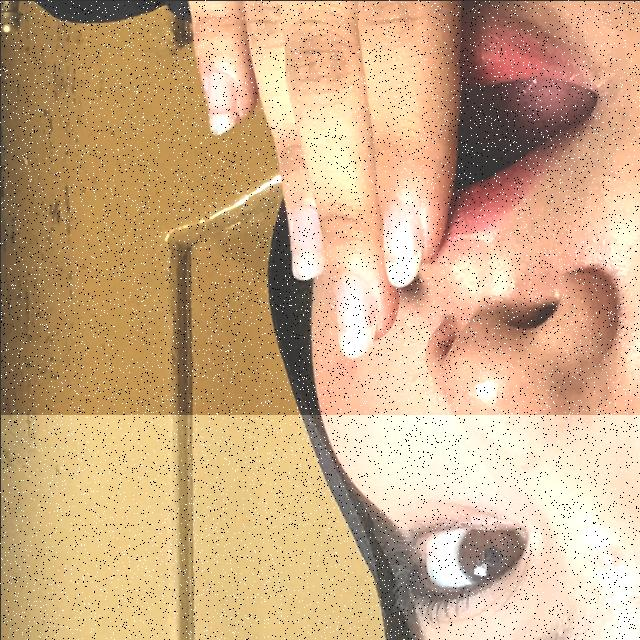ngantuk: (0, 0, 640, 414)
